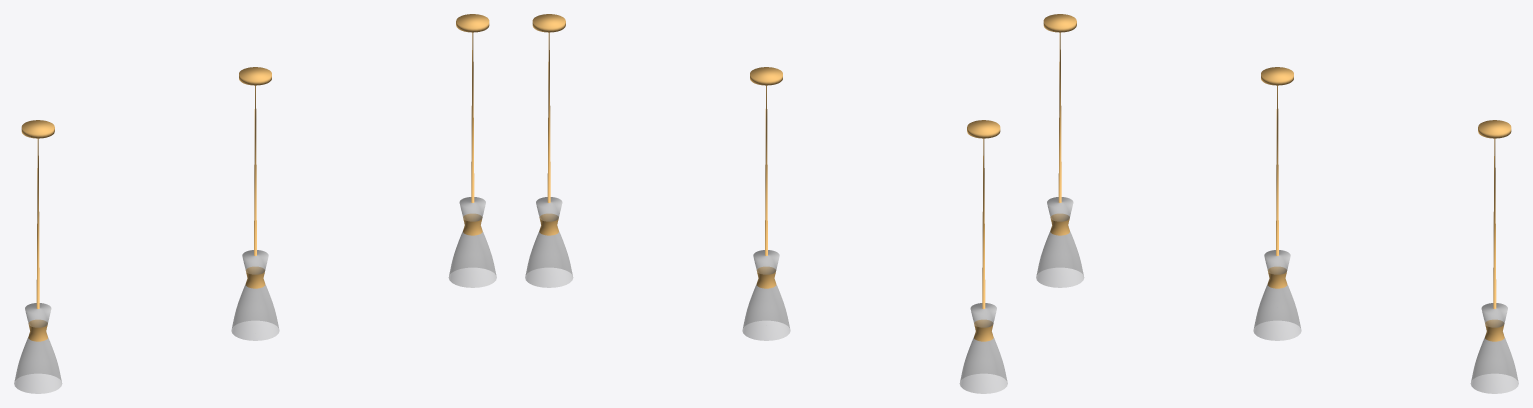
Rendered from Light_HeathWhite_Brass.glb.
The picture shows the model from 3 angles, left to right: view 1: azimuth 30°, elevation 25°; view 2: azimuth 150°, elevation 25°; view 3: azimuth 330°, elevation 25°; orthographic projection.
Visible parts, largest first — view 1: HeathWhite/Brass; view 2: HeathWhite/Brass; view 3: HeathWhite/Brass.
Boxes of the visible parts, box(x1,y1,x2,y2) form: HeathWhite/Brass: box(14, 14, 496, 393); HeathWhite/Brass: box(525, 14, 1007, 393); HeathWhite/Brass: box(1036, 14, 1518, 393).
Bounding box in the file's own units: 3.13 × 1.61 × 0.275.
